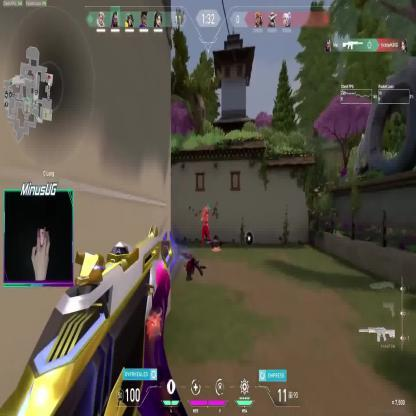enemy: (200, 205, 212, 248)
enemy_head: (203, 206, 209, 214)
